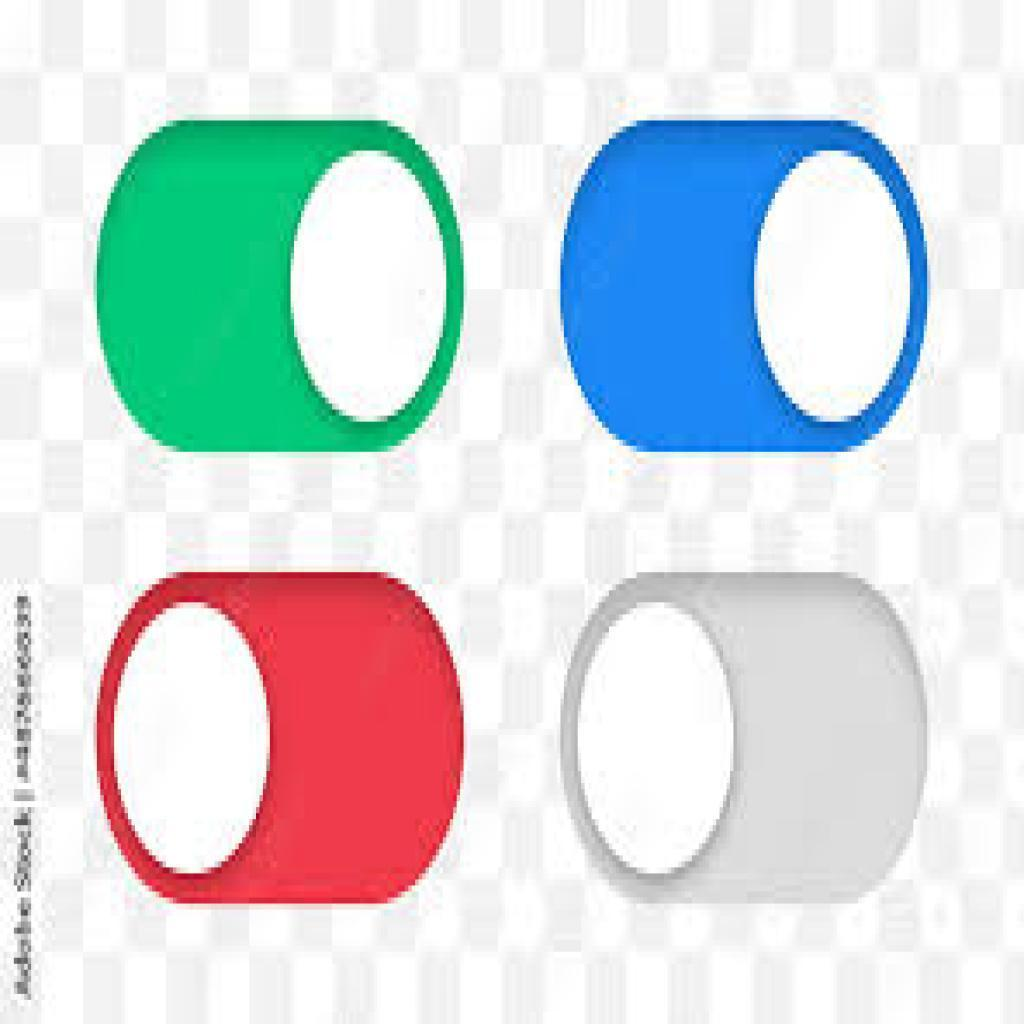switch: (91, 571, 467, 902), (95, 120, 468, 452), (562, 575, 931, 903), (562, 127, 929, 452)
